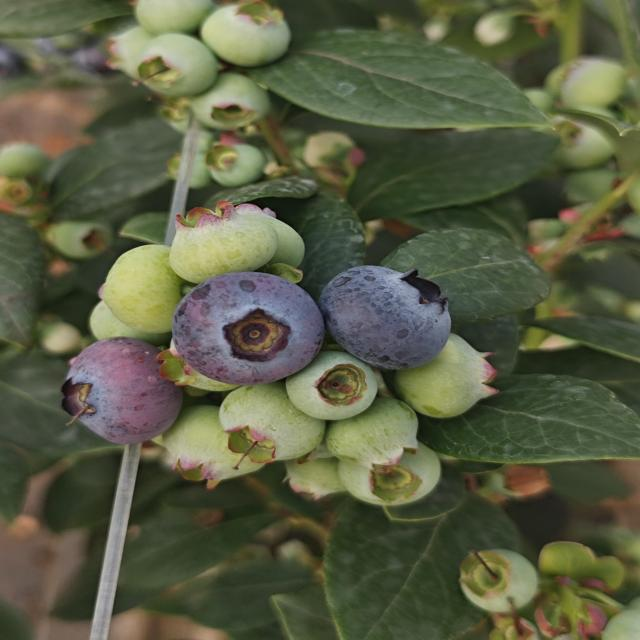ripe: (168, 270, 326, 387), (317, 263, 454, 372), (57, 336, 185, 446)
